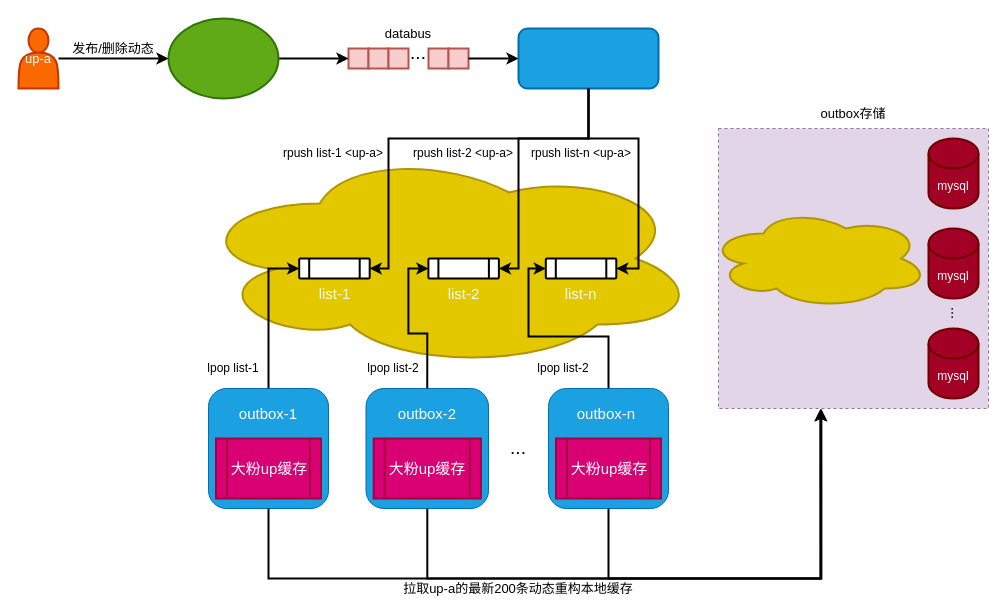
This 1006x615 diagram has some shape labels left out. Here are the shapes that lost their labels. From the top down, the centre of each, then its label:
the point at 223,58: outbox mysql binlog
the point at 588,58: 消费大粉up变更job
the point at 818,258: outbox-feed redis集群
